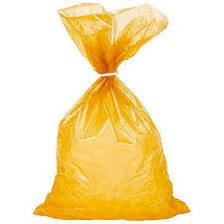plastic_bag: (28, 0, 197, 221)
